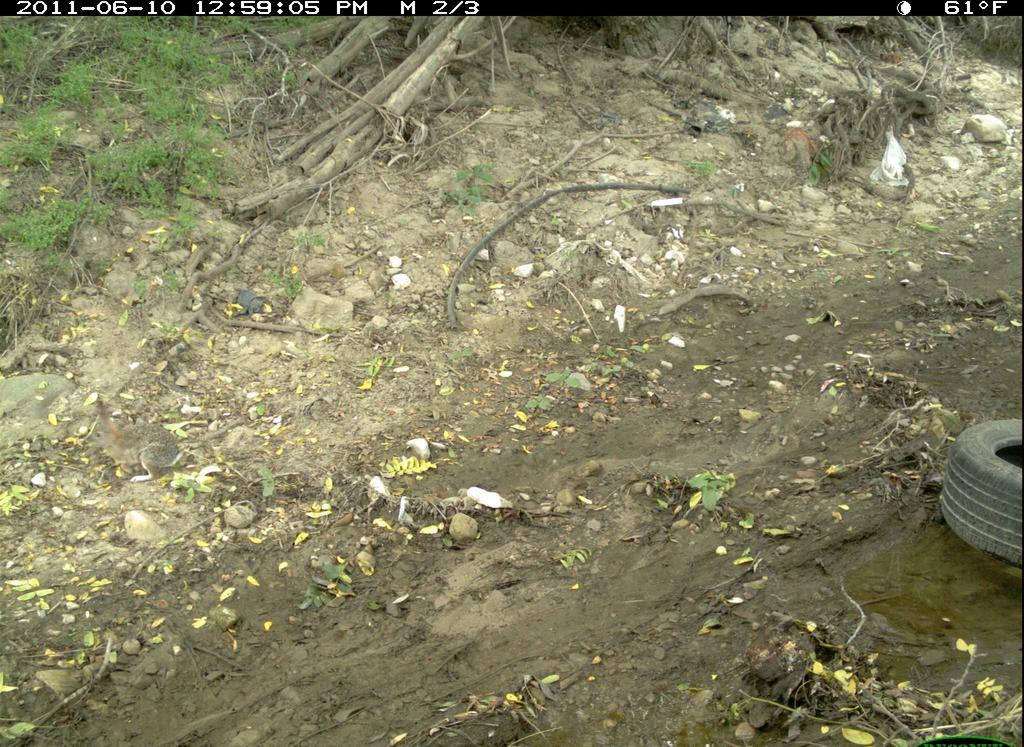rabbit: (76, 390, 186, 488)
